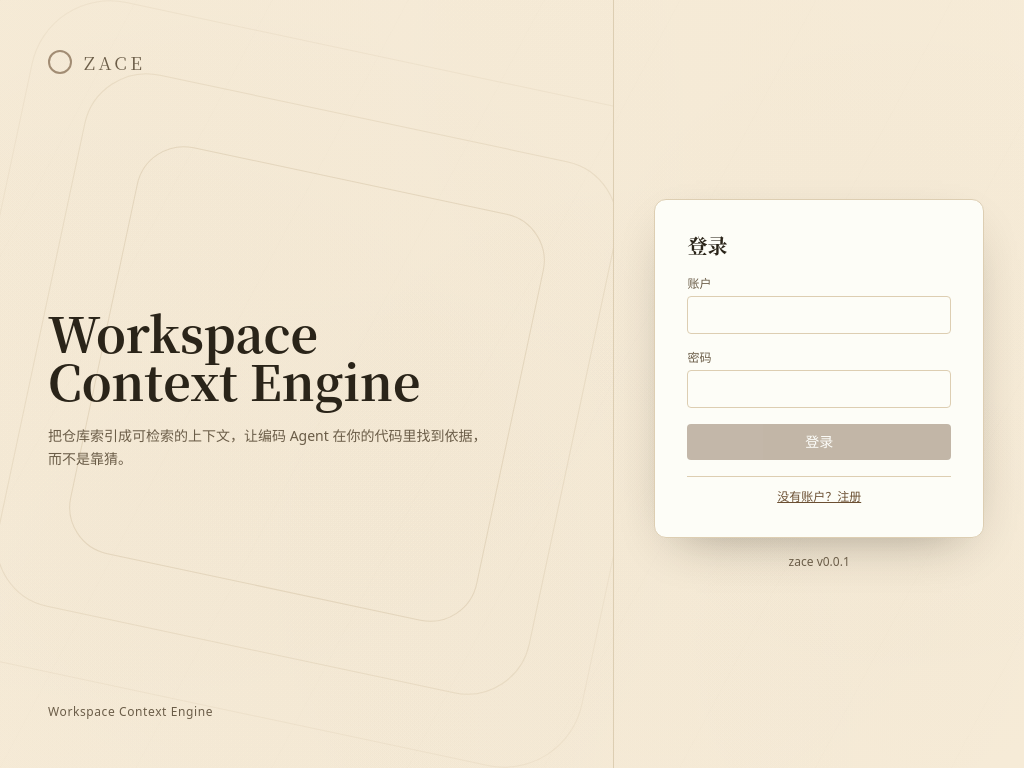
Scenario: 登录交互 › 登录失败展示服务端文案与下一步
expect the heading "登录" is shown: met, box [687,230,728,260]
Type "owner" into the field labelled "账户" at coordinates (819, 314), box [687,296,951,334]
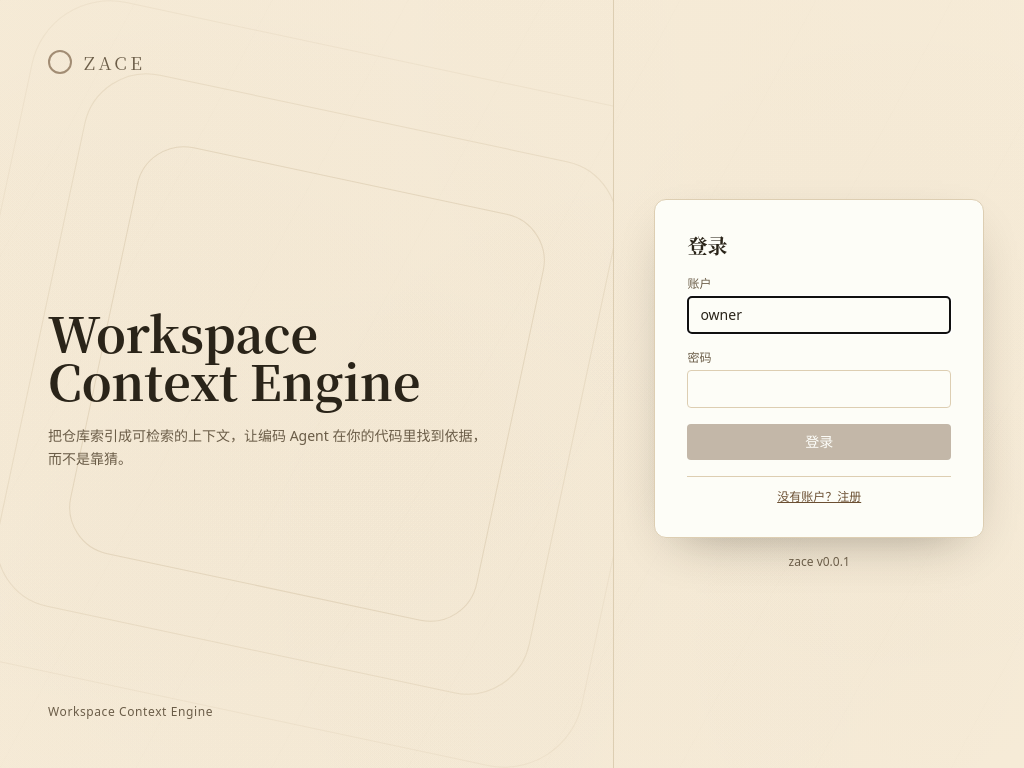
Type "wrong-password" into the password field labelled "密码" at coordinates (819, 388), box [687,370,951,408]
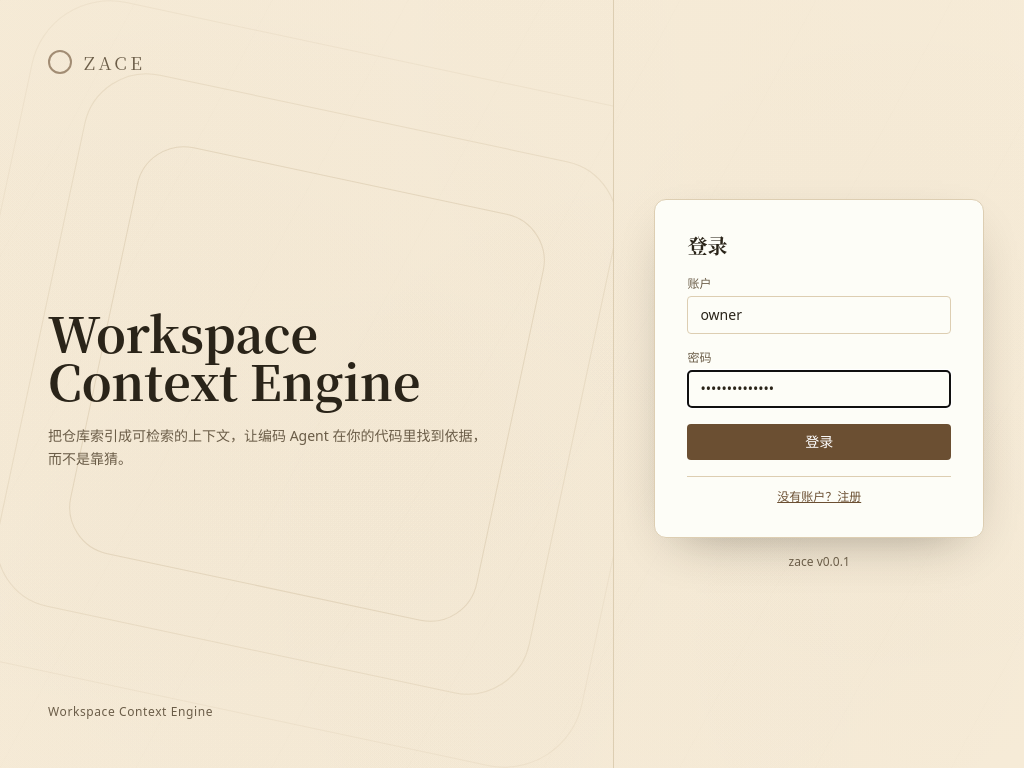
Click the button "登录" at coordinates (819, 442), box [687,424,951,460]
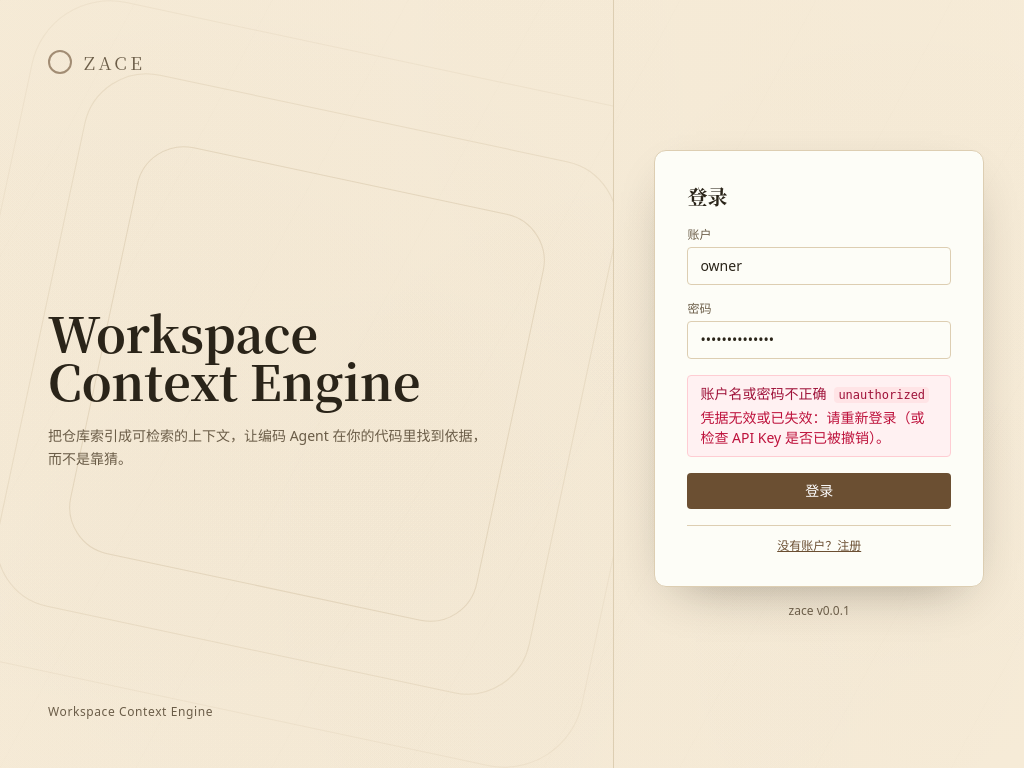
expect the text "账户名或密码不正确" is shown: met, box [700,384,826,404]
expect the text "unauthorized" is shown: met, box [834,386,929,402]
